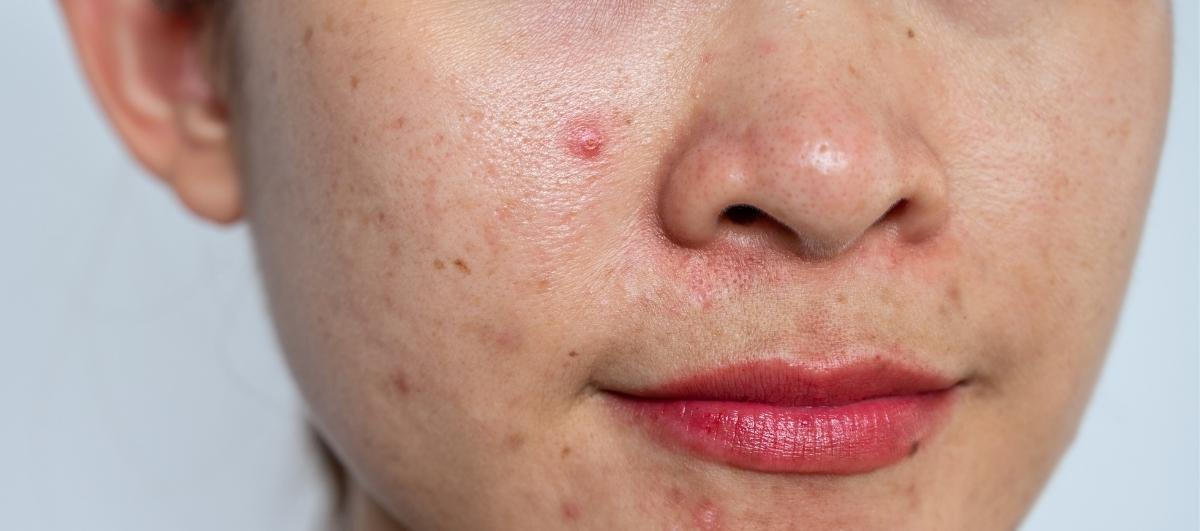Englarged-Pores: (344, 57, 530, 194)
Oily-Skin: (221, 2, 1078, 498)
acne marks: (539, 97, 621, 173), (354, 361, 450, 420), (689, 487, 731, 530)
